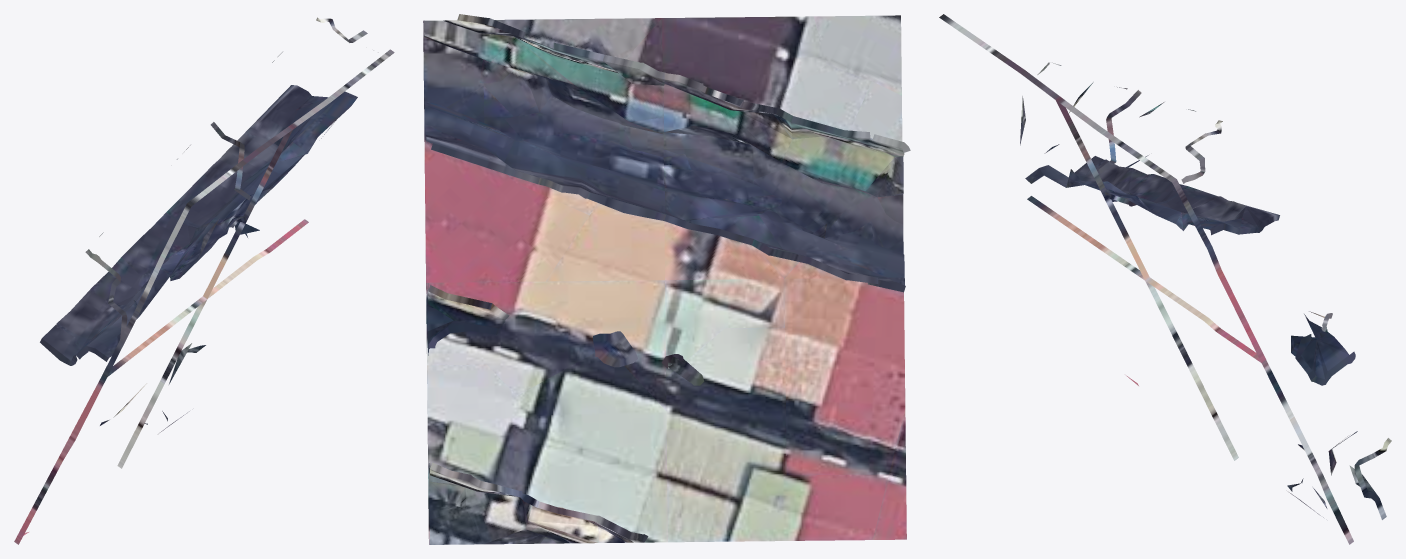
3 renders of one model, left to right at view 1: azimuth 30°, elevation 25°; view 2: azimuth 150°, elevation 25°; view 3: azimuth 270°, elevation 25°, orthographic. The views are drawn at different scales.
Size of the model in its own units: 38.4 by 37.77 by 34.74.
1 material, 1 textured.
